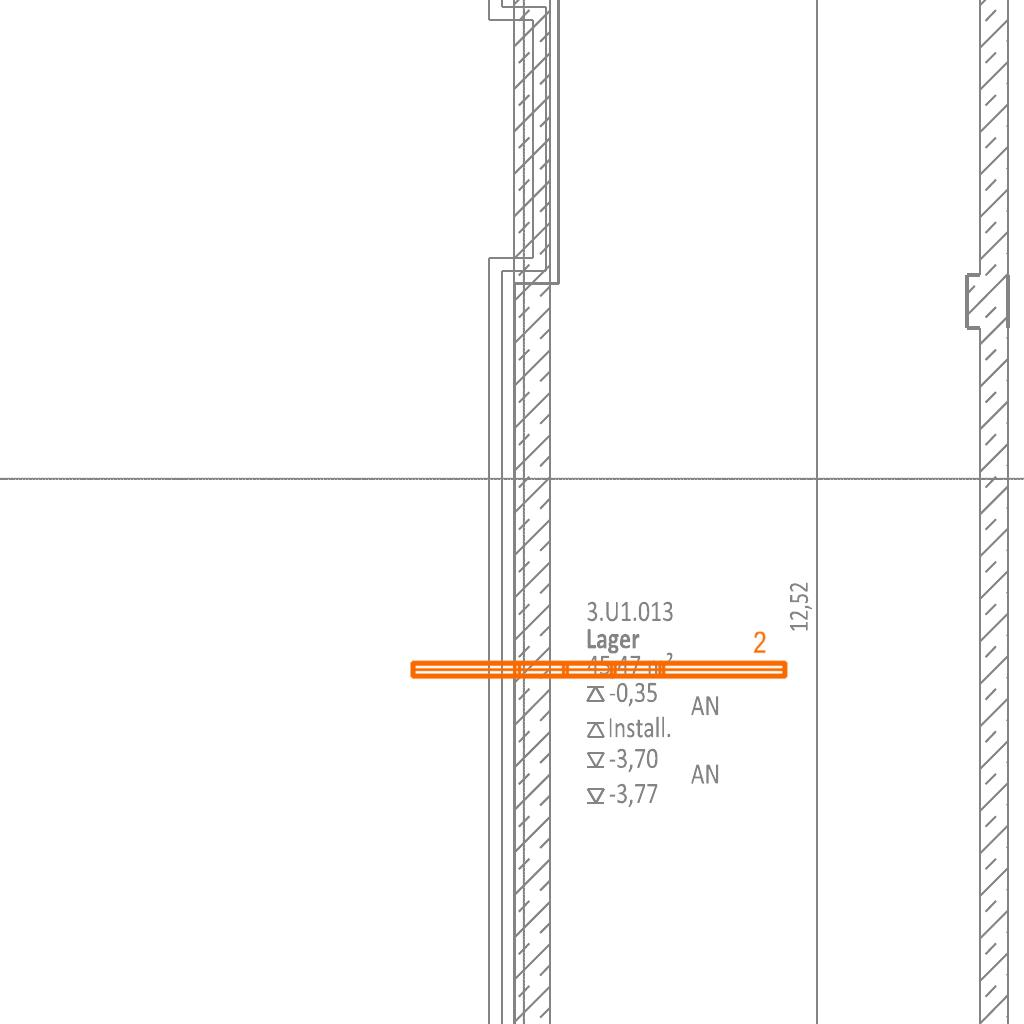Ambulanz_Pendelleuchte_LED: (405, 629, 792, 685)
